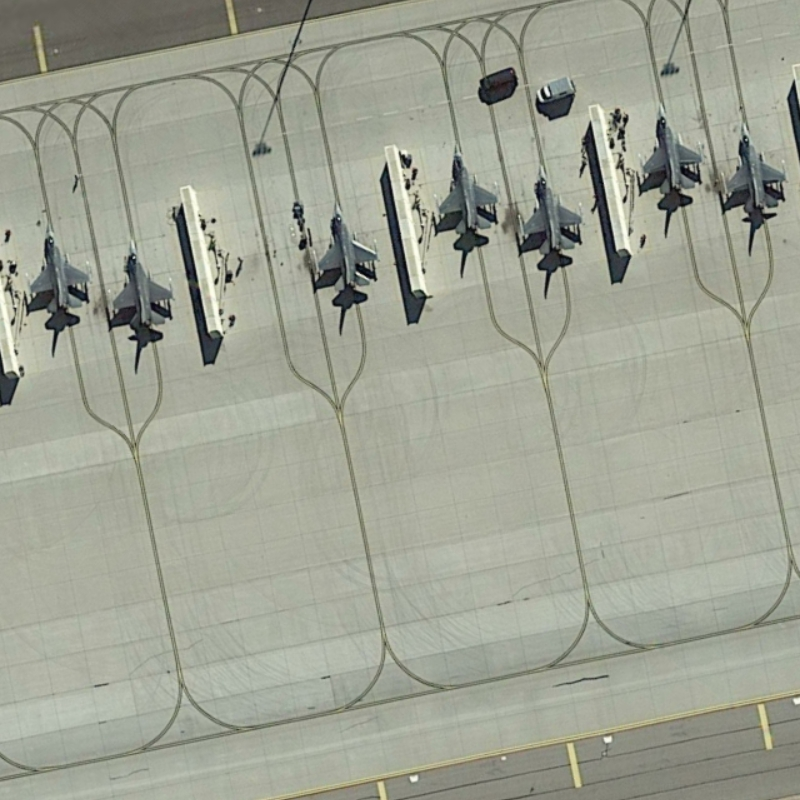A5: (508, 159, 593, 269), (103, 234, 190, 340), (712, 113, 793, 225), (632, 94, 710, 204), (304, 199, 387, 302), (19, 217, 98, 324), (428, 139, 507, 243)
